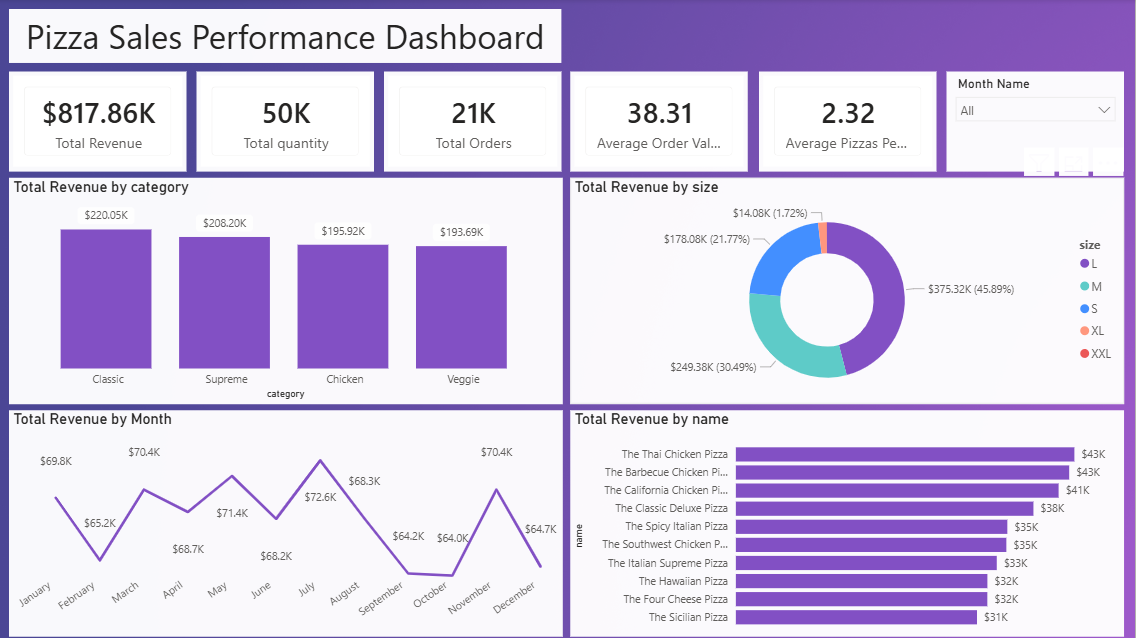

The page's visual inventory and layout, read from the dashboard file:
{"tool":"powerbi","page":{"name":"Overview","canvas":[1280,720],"ordinal":0},"visuals":[{"type":"lineChart","fields":{"Category":["Invoked Function.Date.Variation.Date Hierarchy.Quarter","Invoked Function.Date.Variation.Date Hierarchy.Month"],"Y":["order_details.Total Revenue"]},"box":[11.3,463.4,623.9,254.9],"z":0},{"type":"lineStackedColumnComboChart","fields":{"Category":["pizza_types.category"],"Y":["order_details.Total Revenue"]},"box":[11.3,201.4,623.9,254.9],"z":1000},{"type":"donutChart","fields":{"Category":["pizzas.size"],"Y":["order_details.Total Revenue"]},"box":[643.7,201.4,623.9,254.9],"z":2000},{"type":"cardVisual","fields":{"Data":["order_details.Total Revenue"]},"box":[11.3,81.7,200,112.7],"z":3000},{"type":"cardVisual","fields":{"Data":["order_details.Total quantity"]},"box":[222.5,81.7,200,112.7],"z":4000},{"type":"cardVisual","fields":{"Data":["order_details.Average Pizzas Per Order"]},"box":[856.3,81.7,200,112.7],"z":5000},{"type":"cardVisual","fields":{"Data":["order_details.Average Order Value"]},"box":[643.7,81.7,200,112.7],"z":6000},{"type":"cardVisual","fields":{"Data":["order_details.Total Orders"]},"box":[433.8,81.7,200,112.7],"z":7000},{"type":"slicer","fields":{"Values":["Invoked Function.Month Name"]},"box":[1067.6,81.7,200,112.7],"z":8000},{"type":"clusteredBarChart","fields":{"Category":["pizza_types.name"],"Y":["order_details.Total Revenue"]},"box":[643.7,463.4,623.9,254.9],"z":9000},{"type":"textbox","box":[11.3,11.3,622.5,60.6],"z":10000}]}

Visuals, with their boxes in screenshot pixels (x1, y1, x2, y2), scaled from the page's 1280x720 canvas onto the 1136x638 screenshot:
lineChart - Invoked Function.Date.Variation.Date Hierarchy.Quarter x Invoked Function.Date.Variation.Date Hierarchy.Month: region(10, 411, 564, 636)
lineStackedColumnComboChart - pizza_types.category x order_details.Total Revenue: region(10, 178, 564, 404)
donutChart - pizzas.size x order_details.Total Revenue: region(571, 178, 1125, 404)
cardVisual - order_details.Total Revenue: region(10, 72, 188, 172)
cardVisual - order_details.Total quantity: region(197, 72, 375, 172)
cardVisual - order_details.Average Pizzas Per Order: region(760, 72, 937, 172)
cardVisual - order_details.Average Order Value: region(571, 72, 749, 172)
cardVisual - order_details.Total Orders: region(385, 72, 562, 172)
slicer - Invoked Function.Month Name: region(947, 72, 1125, 172)
clusteredBarChart - pizza_types.name x order_details.Total Revenue: region(571, 411, 1125, 636)
textbox: region(10, 10, 562, 64)
